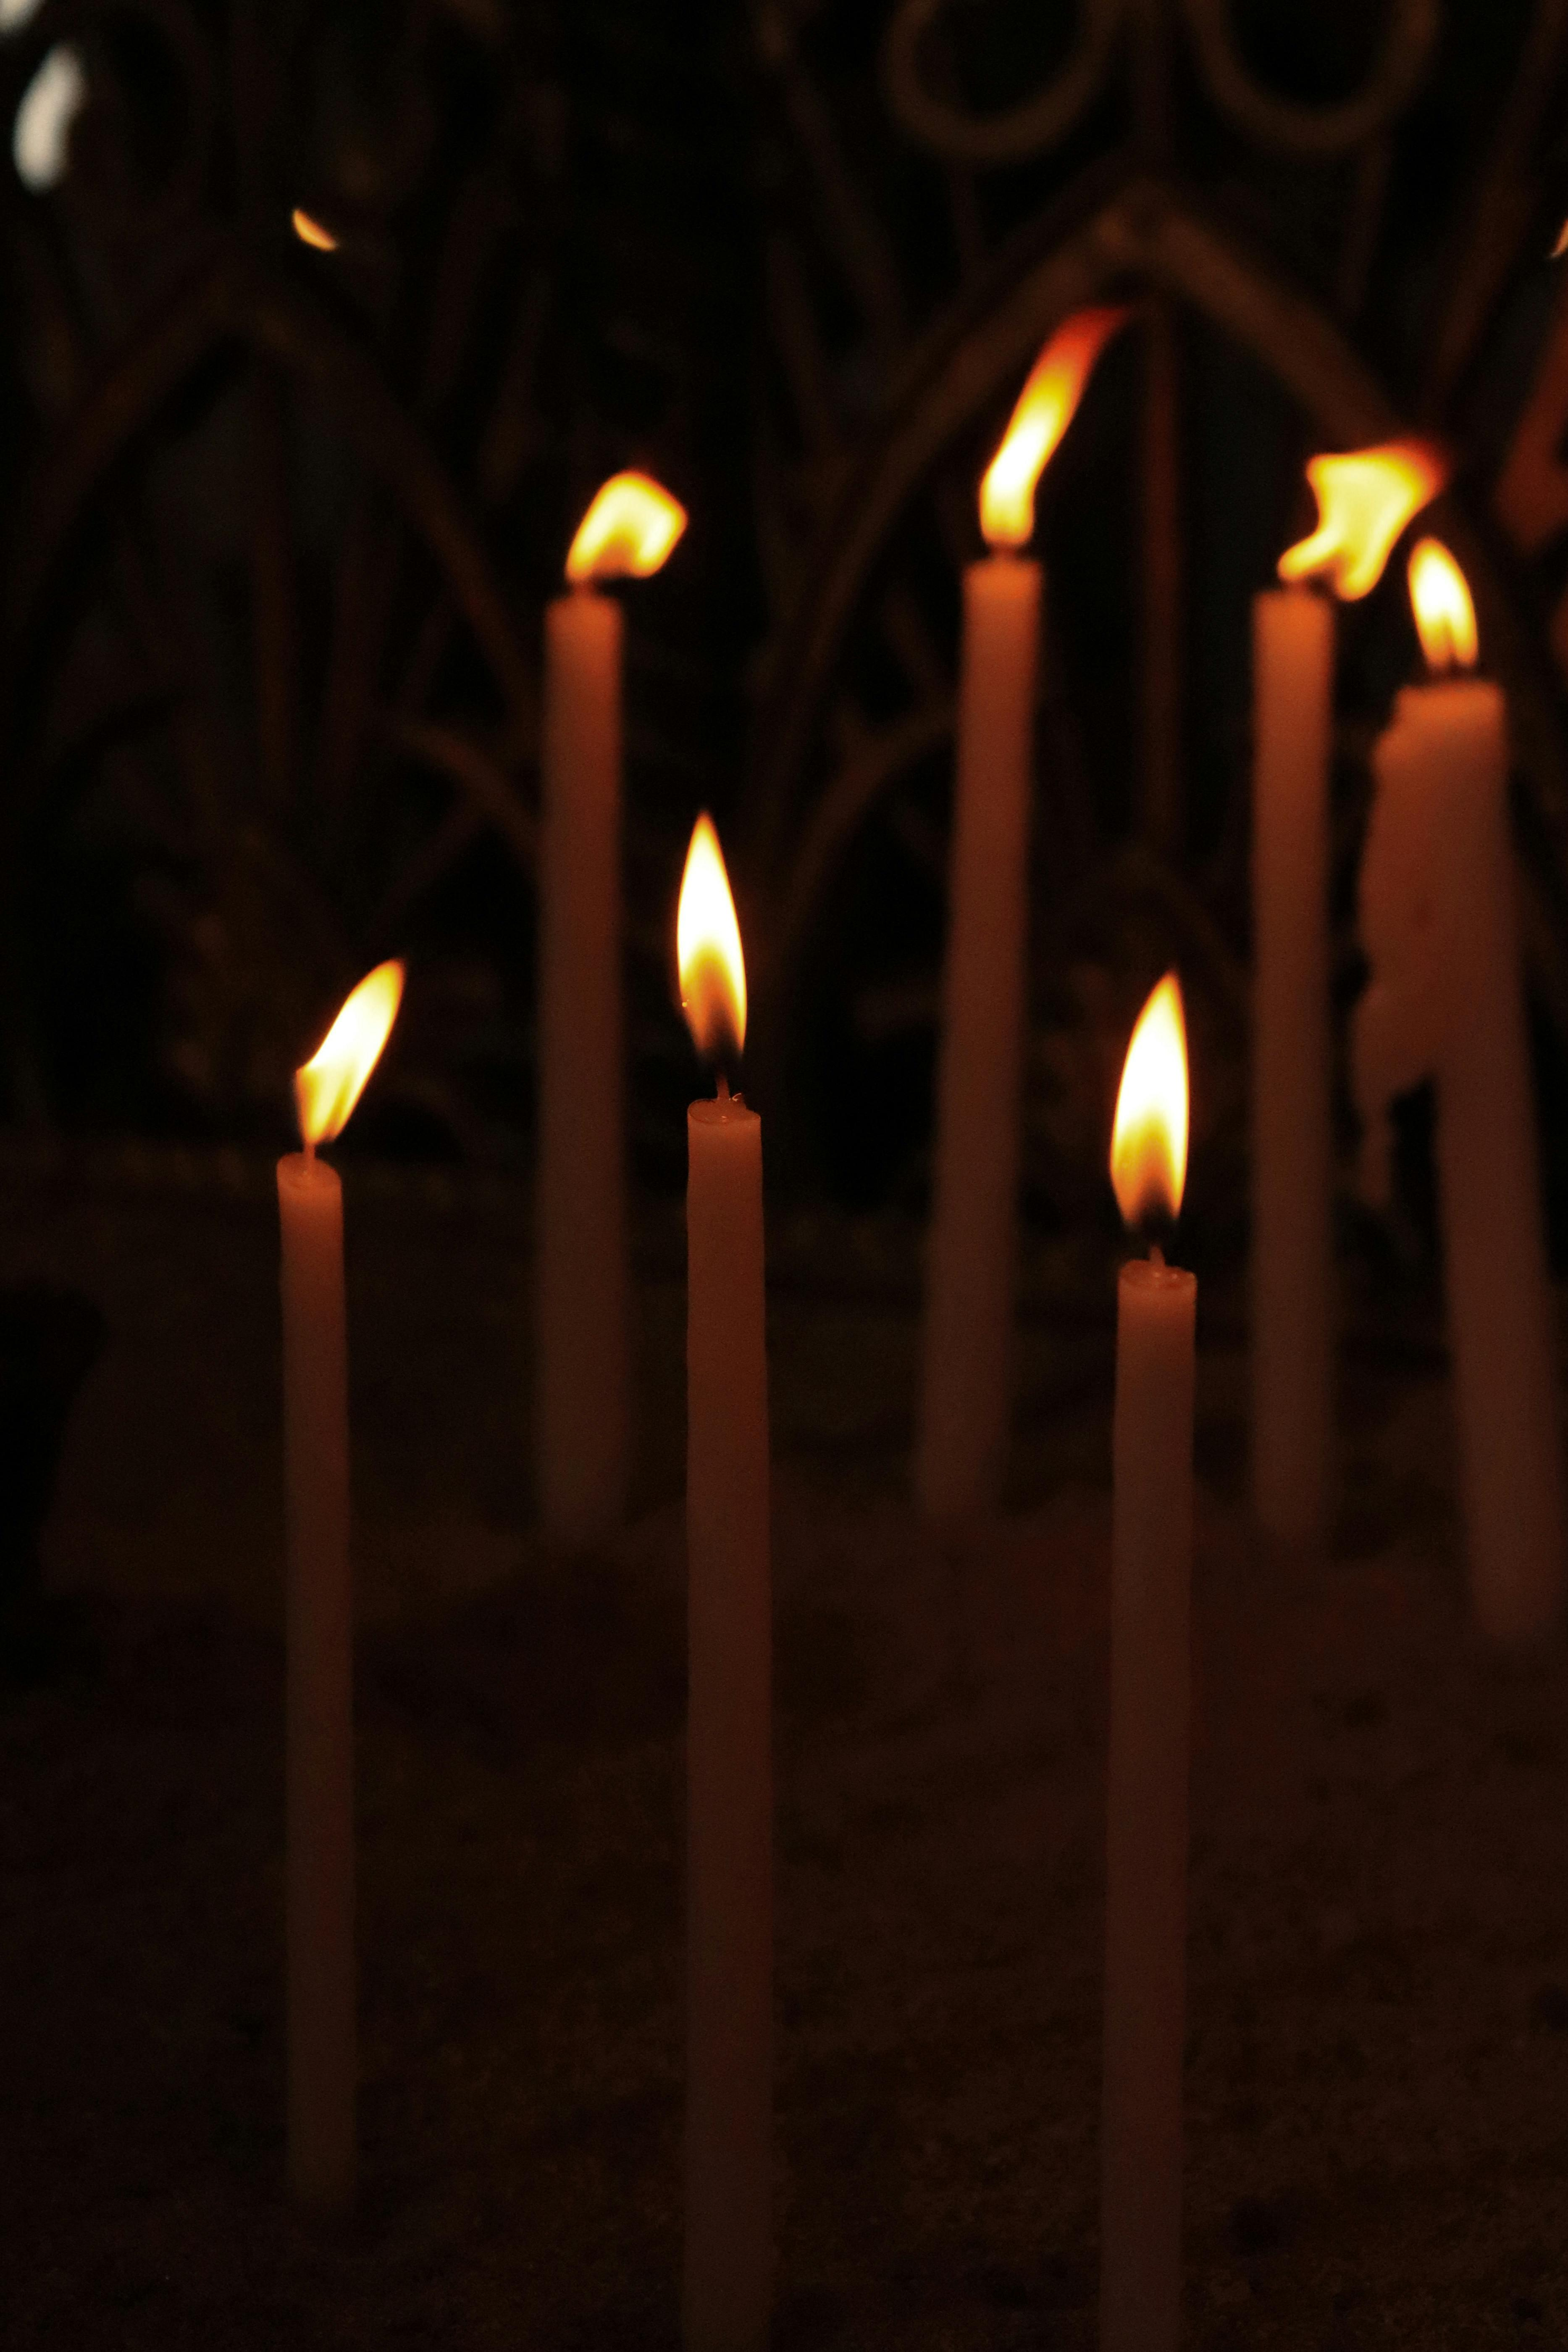Fire: (1262, 416, 1521, 688), (1073, 959, 1255, 1232), (971, 308, 1146, 549), (647, 807, 791, 1073), (252, 938, 425, 1157), (521, 458, 721, 604)
